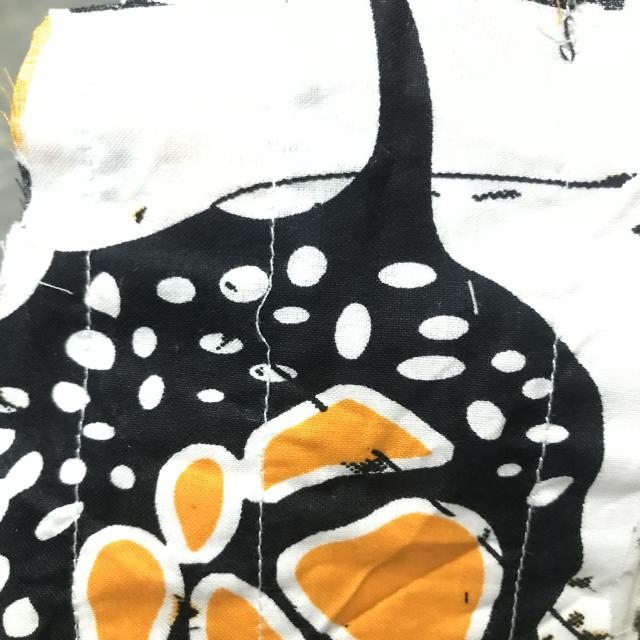good: (249, 506, 277, 570)
skip: (233, 275, 300, 365)
